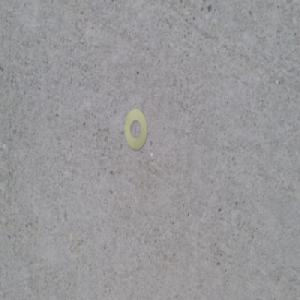Washer: (123, 108, 147, 151)
